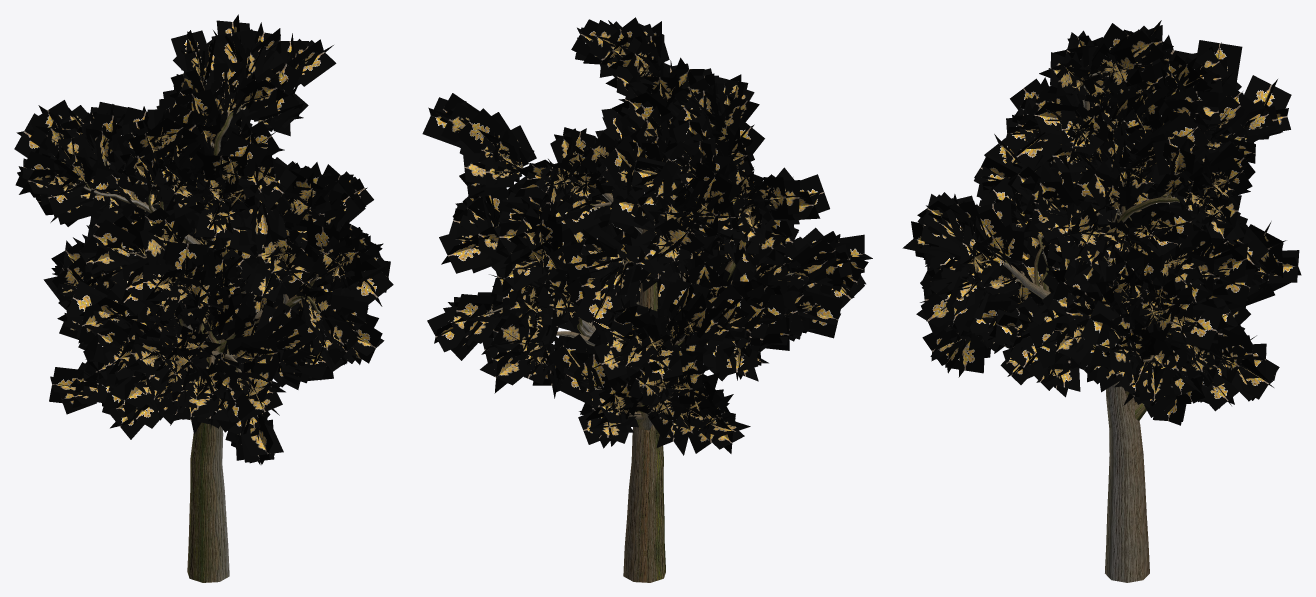
The model's file is eztree-sugar-maple-stand-c.glb.
3 renders of one model, left to right at view 1: azimuth 30°, elevation 25°; view 2: azimuth 150°, elevation 25°; view 3: azimuth 270°, elevation 25°, orthographic. The views are drawn at different scales.
Visible parts, largest first — view 1: eztree-sugar-maple-stand-c; view 2: eztree-sugar-maple-stand-c; view 3: eztree-sugar-maple-stand-c.
Part boxes in pixels (box(x1,y1,x2,y2)): eztree-sugar-maple-stand-c: box(14, 14, 393, 582); eztree-sugar-maple-stand-c: box(422, 17, 872, 582); eztree-sugar-maple-stand-c: box(902, 20, 1301, 582).
Size of the model in its own units: 51.23 by 76.74 by 49.43.
Materials: 2 (2 with a texture image).
